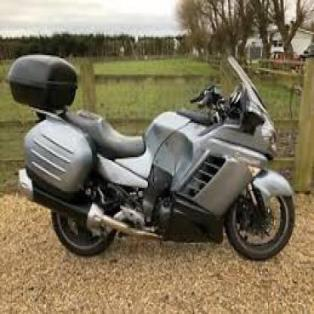Motocicleta: (8, 36, 298, 266)
